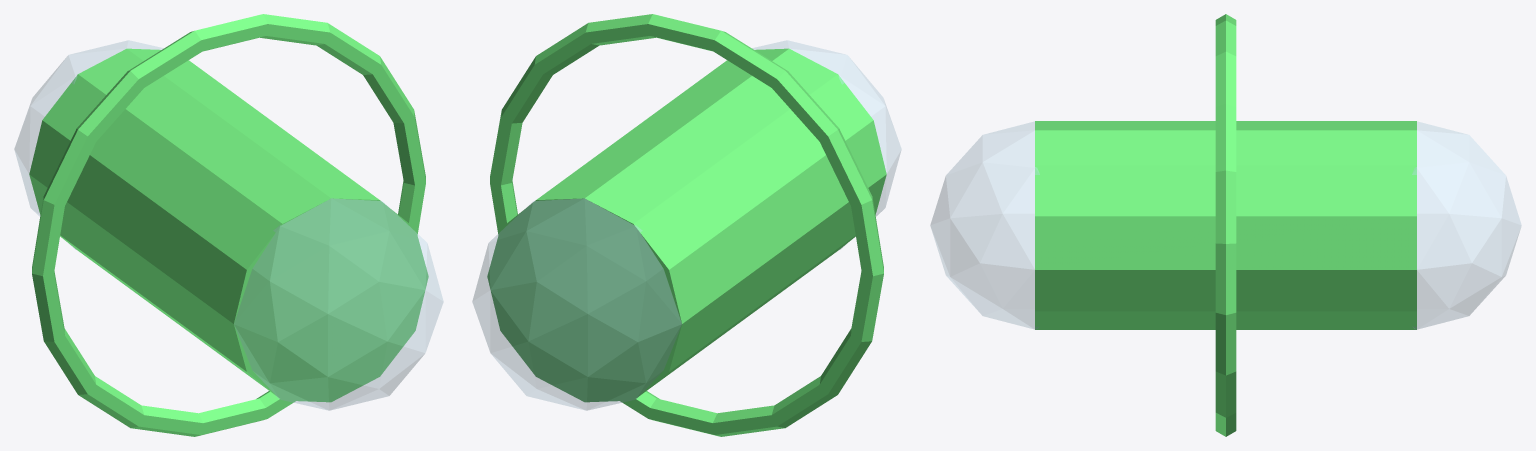
The model's file is health_pickup_capsule.glb.
The picture shows the model from 3 angles, left to right: view 1: azimuth 30°, elevation 25°; view 2: azimuth 150°, elevation 25°; view 3: azimuth 270°, elevation 25°; orthographic projection. The views are drawn at different scales.
Visible parts, largest first — view 1: body, top, ring, bottom; view 2: body, bottom, ring, top; view 3: body, top, bottom, ring.
Part boxes in pixels (box(x1,y1,x2,y2)): body: box(29, 48, 428, 402); top: box(234, 198, 443, 410); ring: box(32, 14, 425, 436); bottom: box(14, 40, 163, 249); body: box(487, 48, 886, 402); bottom: box(472, 198, 681, 410); ring: box(490, 14, 883, 436); top: box(752, 40, 901, 249); body: box(1035, 121, 1416, 329); top: box(930, 121, 1039, 329); bottom: box(1412, 121, 1521, 329); ring: box(1215, 14, 1236, 436).
Size of the model in its own units: 0.89 by 0.8765 by 1.24.
